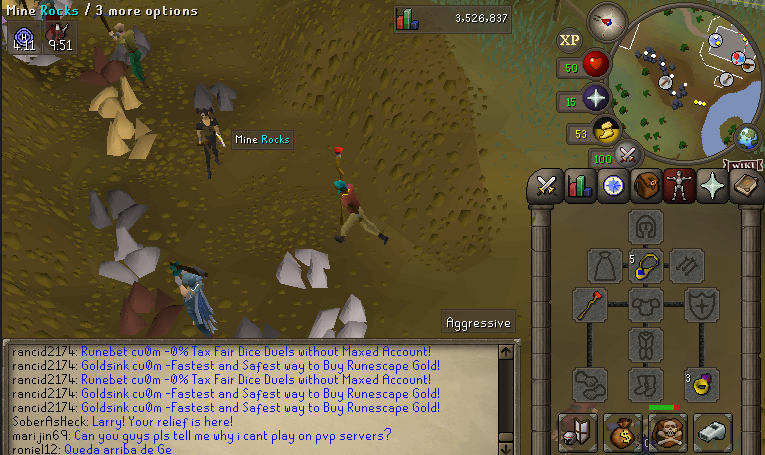depleted: (82, 189, 150, 232), (106, 21, 157, 64), (188, 79, 241, 120), (232, 314, 287, 339)
iron: (106, 279, 185, 340), (79, 42, 129, 89)
